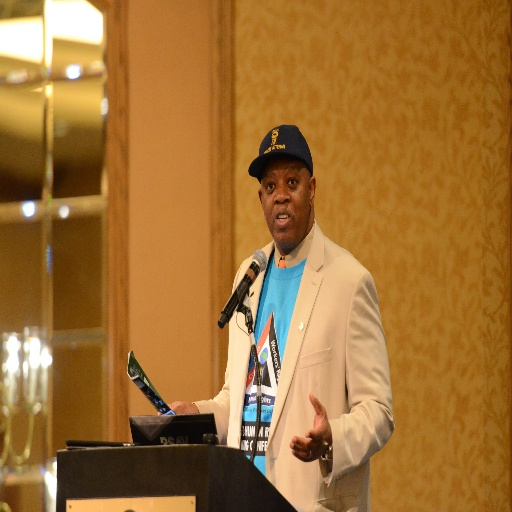hand: (294, 411, 338, 469), (156, 398, 198, 414)
